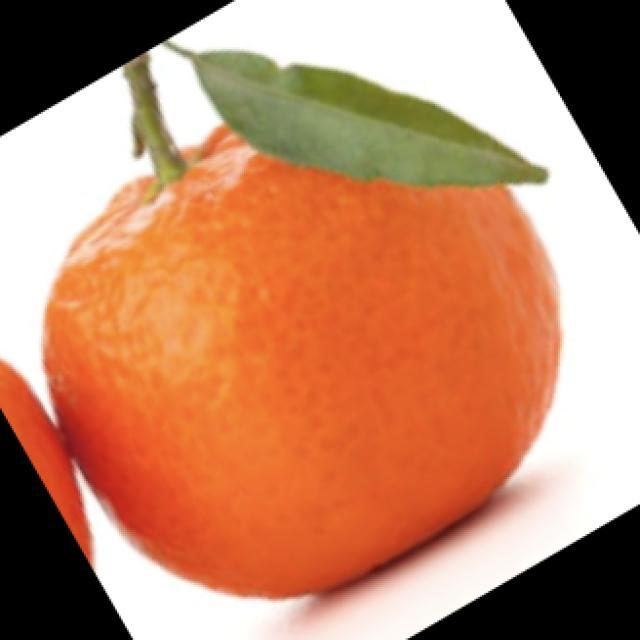Orange: (41, 119, 562, 600)
